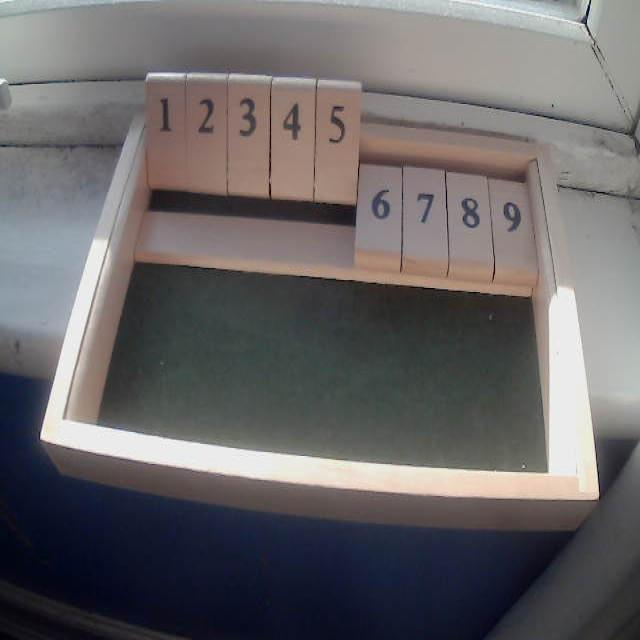C6: (356, 124, 403, 272)
C7: (404, 129, 446, 280)
C8: (447, 133, 494, 286)
C9: (493, 138, 541, 290)
O1: (147, 73, 185, 263)
O2: (185, 73, 228, 266)
O3: (228, 74, 270, 269)
O4: (271, 77, 316, 275)
O5: (315, 78, 361, 279)
